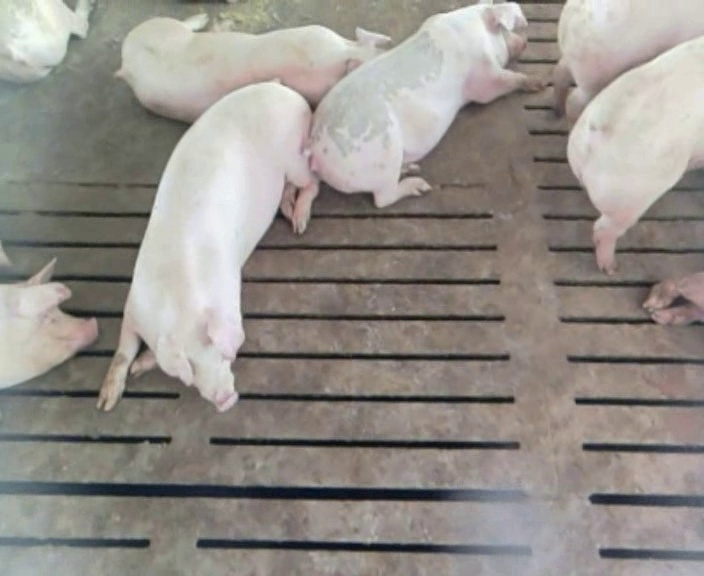pig: (99, 82, 319, 410), (304, 3, 541, 206), (568, 36, 703, 273), (116, 16, 389, 121), (553, 2, 703, 122), (0, 2, 91, 82)
